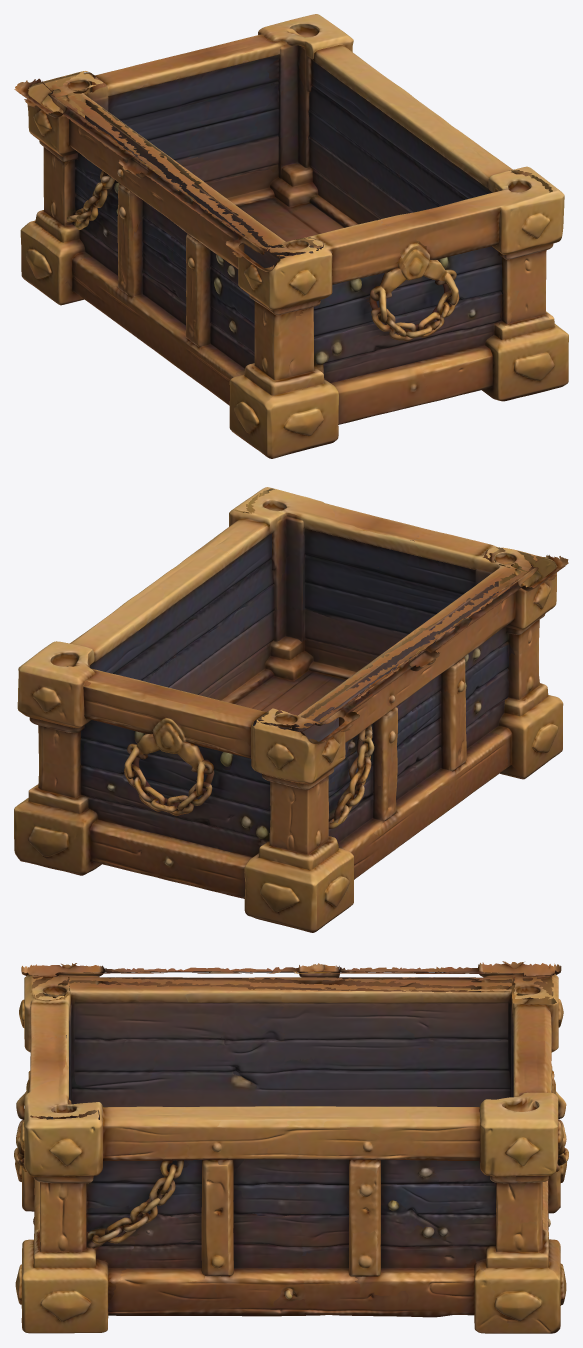
File: ChestBottom.fbx
The picture shows the model from 3 angles, top to bottom: view 1: azimuth 30°, elevation 25°; view 2: azimuth 150°, elevation 25°; view 3: azimuth 270°, elevation 25°; orthographic projection. The views are drawn at different scales.
Parts seen in each view (by area): view 1: tripo_node_efc97db5; view 2: tripo_node_efc97db5; view 3: tripo_node_efc97db5.
Part boxes in pixels (<box>): tripo_node_efc97db5: <box>14,14,568,458</box>; tripo_node_efc97db5: <box>14,487,568,932</box>; tripo_node_efc97db5: <box>14,961,568,1333</box>.
Size of the model in its own units: 72.08 by 43.48 by 100.
